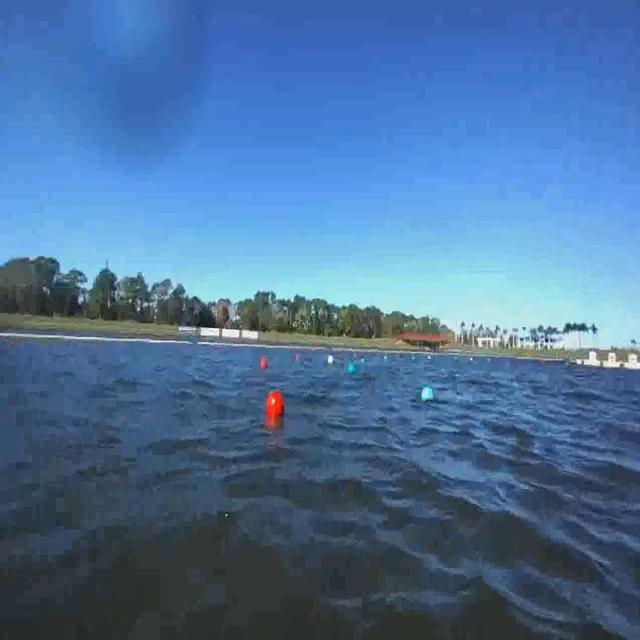green-buoy: (422, 386, 433, 402), (348, 360, 354, 379)
red-buoy: (268, 393, 285, 419), (263, 357, 270, 370)
yellow-buoy: (326, 352, 336, 371)
